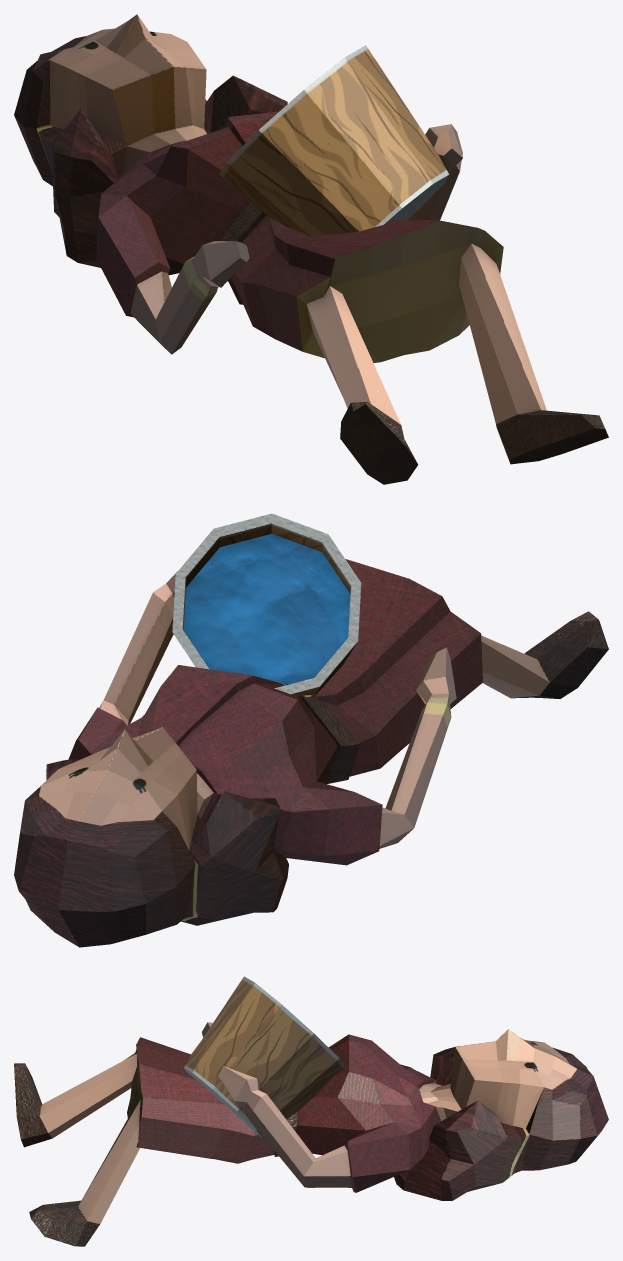
File: Walk_Aldeana_12.obj
The picture shows the model from 3 angles, top to bottom: view 1: azimuth 30°, elevation 25°; view 2: azimuth 150°, elevation 25°; view 3: azimuth 270°, elevation 25°; orthographic projection. The views are drawn at different scales.
Parts seen in each view (by area): view 1: Aldeana.001; view 2: Aldeana.001; view 3: Aldeana.001.
Part boxes in pixels (bbox=[...]): Aldeana.001: bbox=[14, 14, 608, 484]; Aldeana.001: bbox=[14, 513, 608, 947]; Aldeana.001: bbox=[14, 976, 608, 1246].
Size of the model in its own units: 0.9991 by 1.04 by 2.35.
